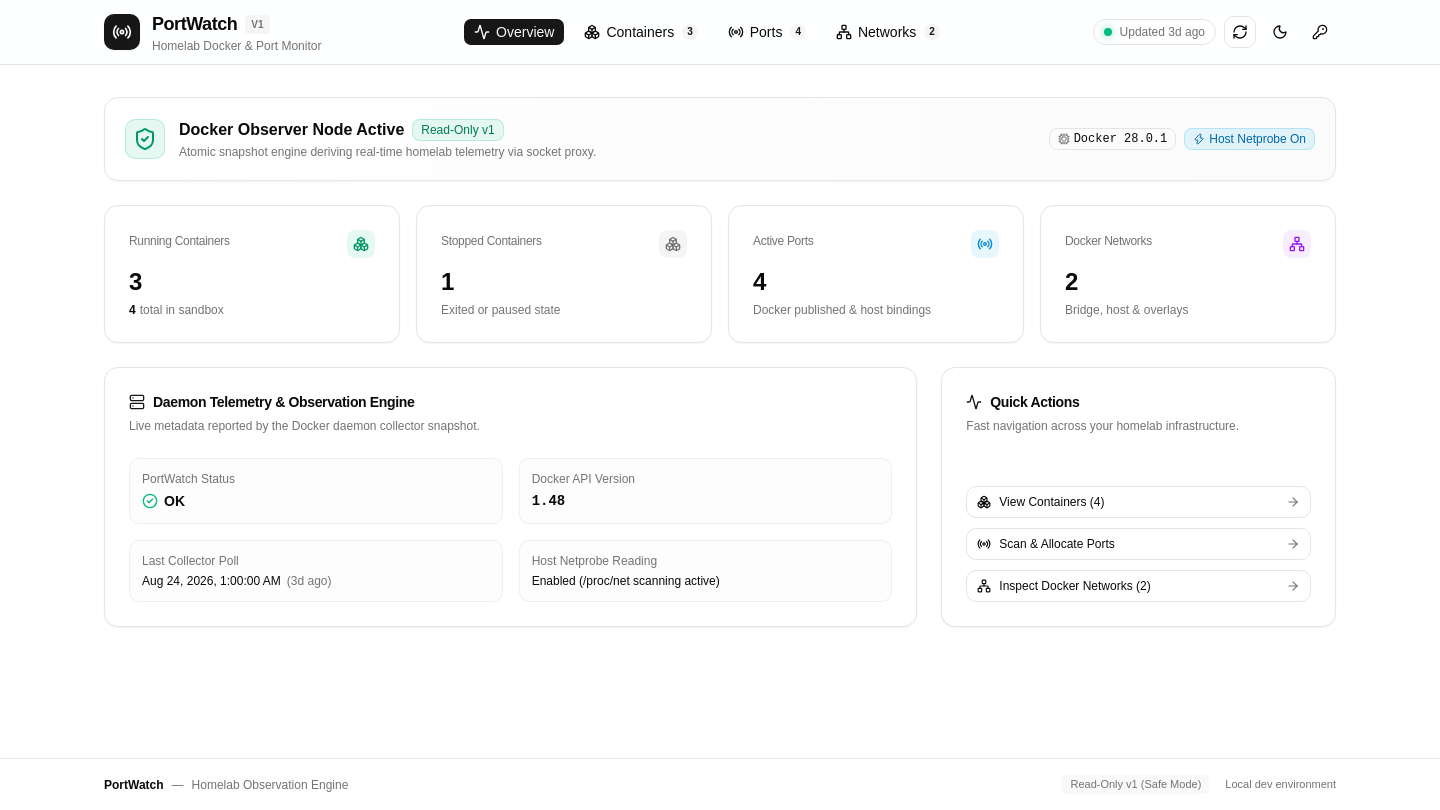
it: App Dashboard › filters ports by Free state using the available-ports endpoint, not the plain ports list
This screenshot has width=1440, height=810.
Check: the text "Docker 28.0.1" is shown, box [1049, 128, 1176, 150]
Click the button "Ports 4" at (767, 32), box [717, 18, 817, 46]
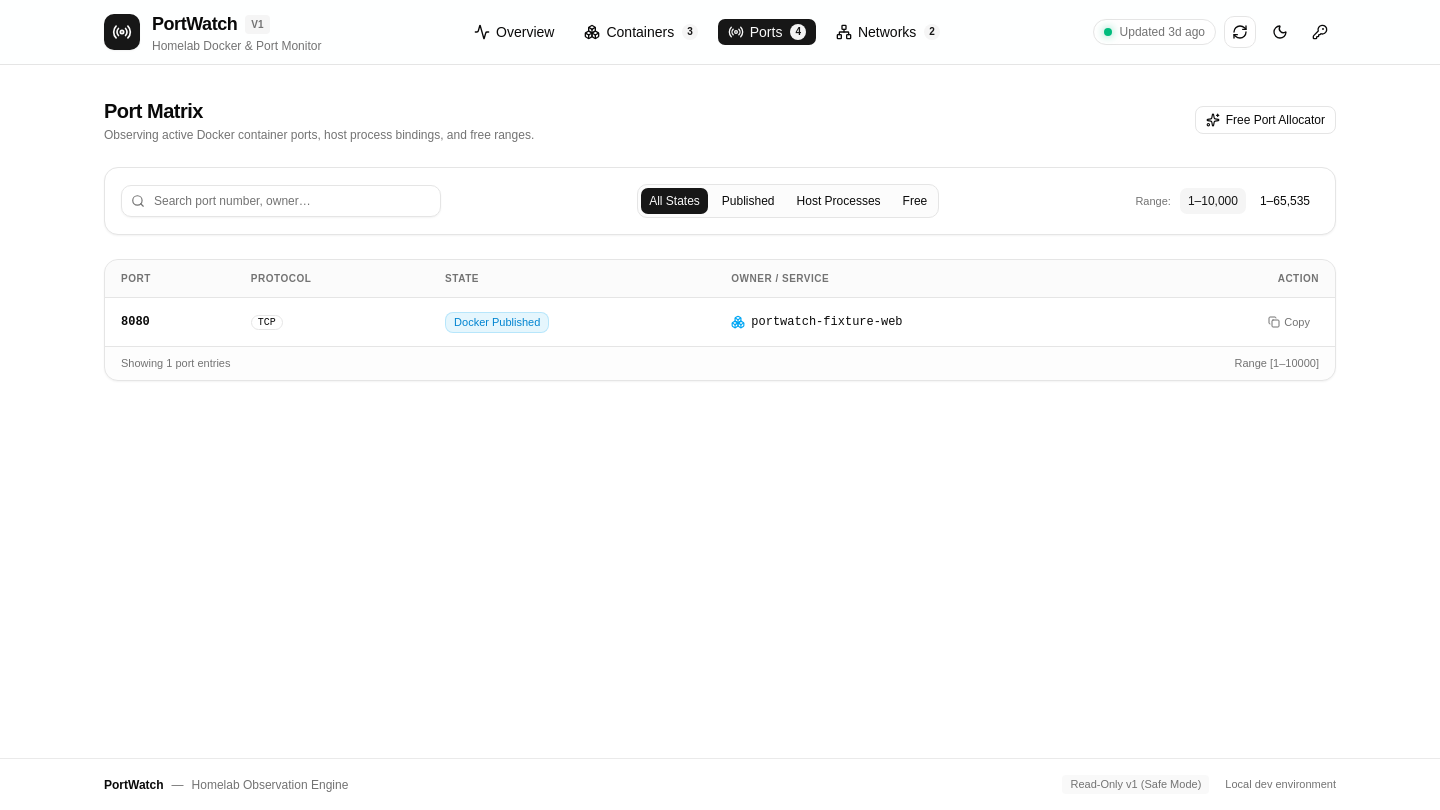
Check: the text "8080" is shown, box [105, 298, 235, 346]
Click the button "Free" at (915, 201), box [894, 187, 936, 215]
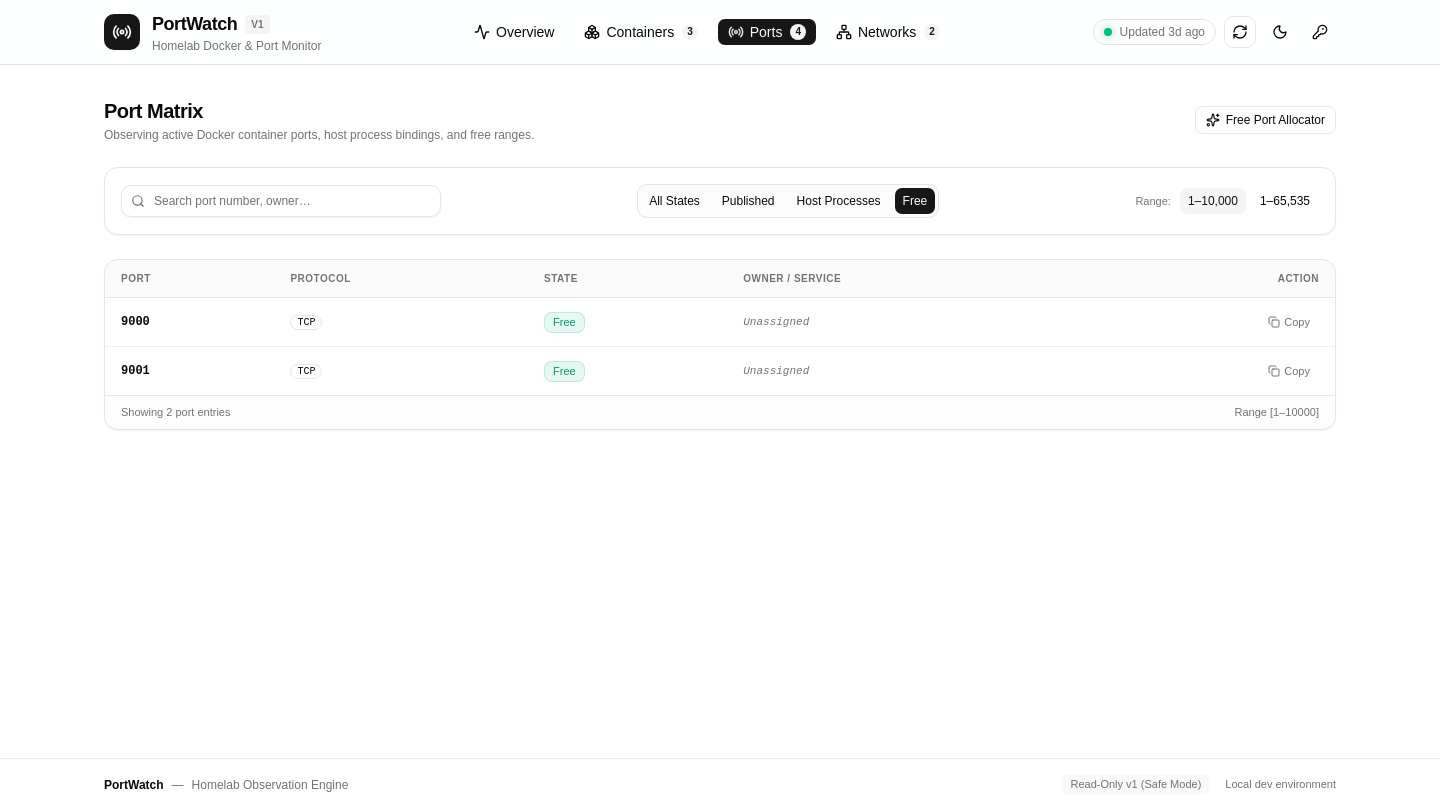
Check: the text "9000" is shown, box [105, 298, 274, 347]
Check: the text "9001" is shown, box [105, 347, 274, 395]
Check: the text "8080" is gone
